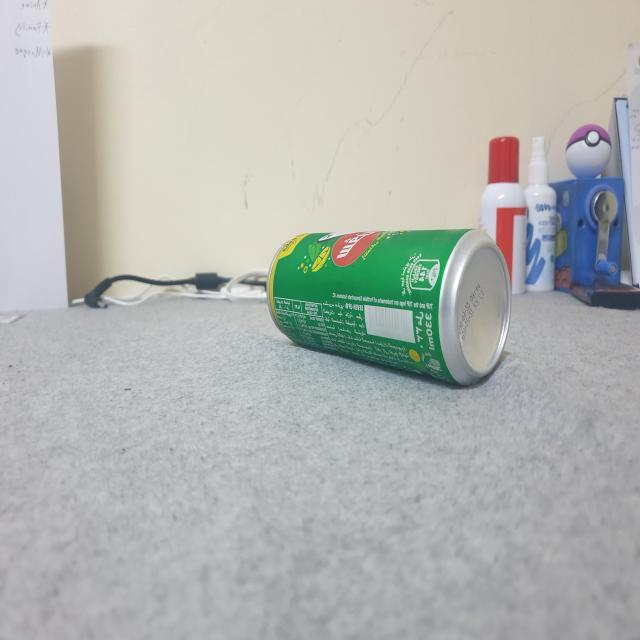can: (252, 218, 514, 408)
